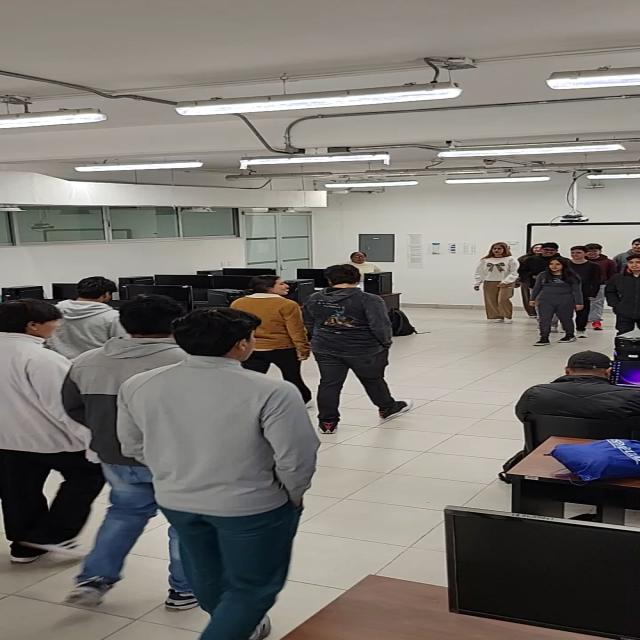Persona: (113, 304, 326, 640), (61, 293, 231, 617), (0, 296, 119, 567), (299, 261, 416, 432), (229, 276, 318, 411), (48, 273, 131, 356), (528, 257, 586, 347), (472, 242, 520, 324), (525, 242, 573, 319), (563, 245, 600, 340), (604, 253, 640, 337), (584, 242, 614, 283), (615, 235, 640, 282)
